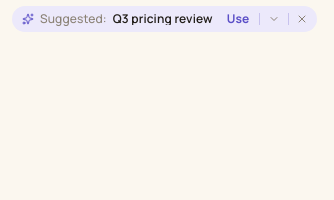
Test case: TitleSuggestion › offers every name in the menu
Later steps or results of the test are not shown.
What coordinates should you click on to do the following:
click the button named "Other titles"
I would click on:
 (274, 19)
Its box is [260, 6, 288, 32].
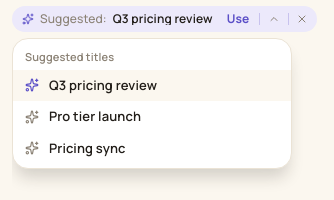
Result: the menu items read "Q3 pricing review", "Pro tier launch", "Pricing sync", in this order at [13, 70, 291, 101]; [13, 101, 291, 132]; [13, 132, 291, 164]
